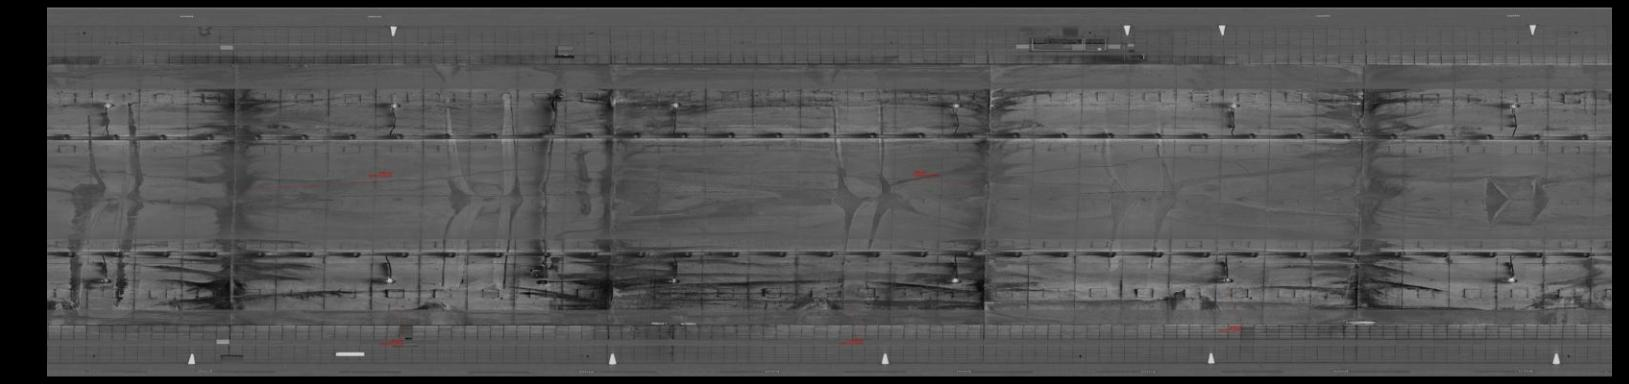light: (382, 99, 407, 113), (1216, 273, 1237, 287), (1502, 273, 1522, 289), (1503, 97, 1525, 110), (98, 98, 118, 111), (944, 99, 968, 110), (95, 273, 114, 286), (379, 273, 398, 286), (947, 274, 965, 287), (1221, 99, 1241, 110), (666, 100, 685, 111), (664, 276, 685, 285)
